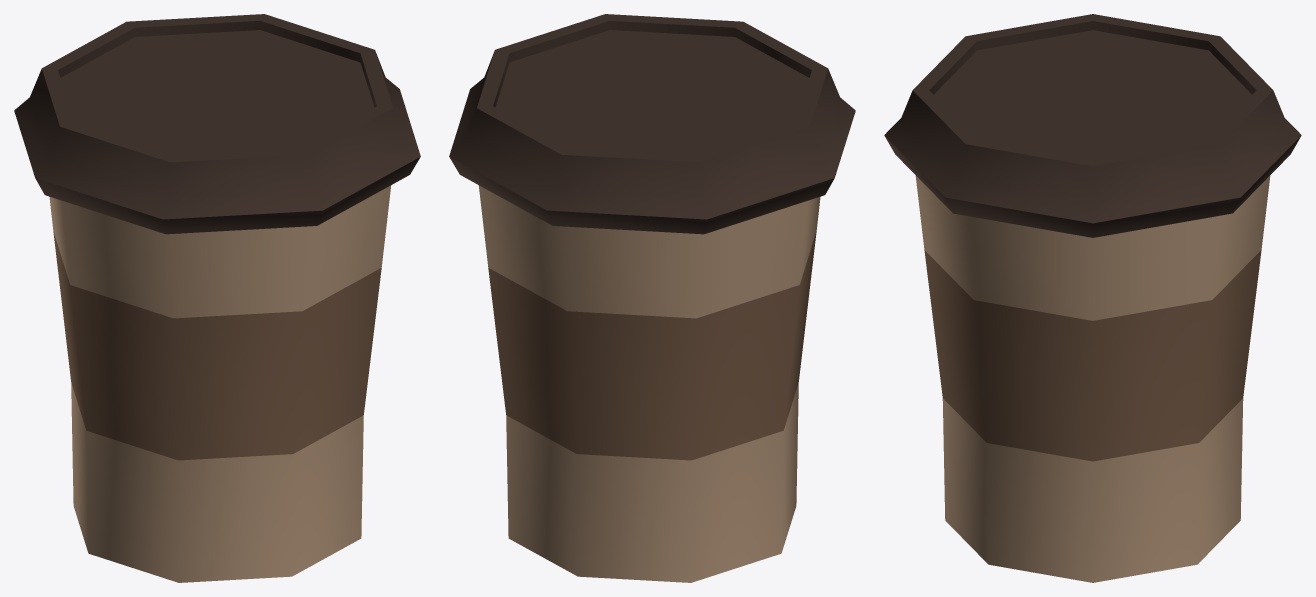
Rendered from Coffe.fbx.
The picture shows the model from 3 angles, left to right: view 1: azimuth 30°, elevation 25°; view 2: azimuth 150°, elevation 25°; view 3: azimuth 270°, elevation 25°; orthographic projection.
Parts seen in each view (by area): view 1: Coffe; view 2: Coffe; view 3: Coffe.
Boxes of the visible parts, x1,y1,x2,y2 form: Coffe: [14, 14, 420, 582]; Coffe: [449, 14, 855, 582]; Coffe: [884, 14, 1301, 582].
Bounding box in the file's own units: 28.45 × 32.35 × 28.45.
